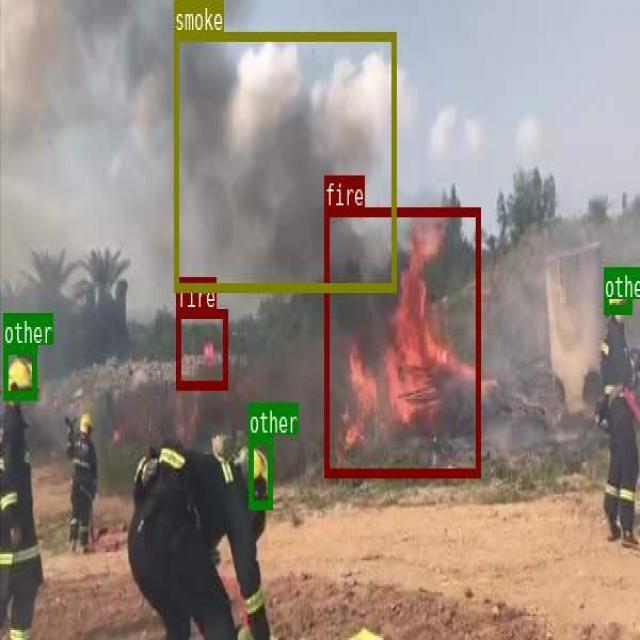fire: (323, 206, 480, 475), (176, 308, 227, 388)
smoke: (173, 30, 395, 291)
